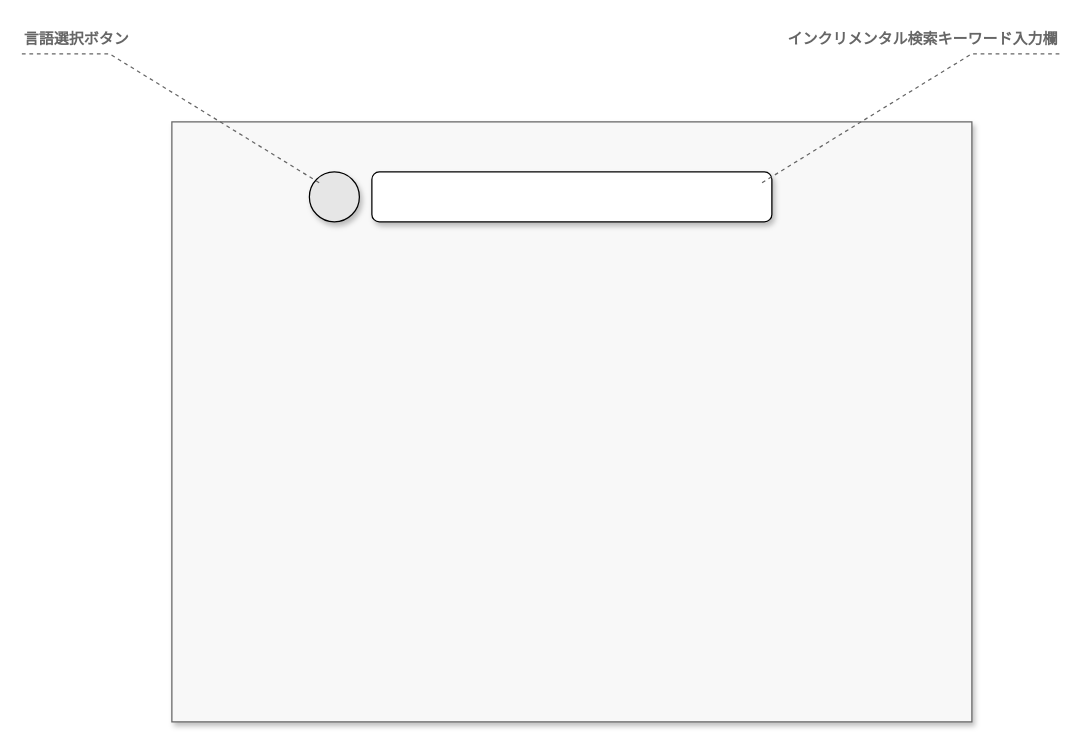
Some shapes in this 1081 by 753 pixel diagram are drawn without their labels. The shapes that lost their labels are listed below. From the top down, each one's centre as x and y in pixels, then its label:
point (335, 198): JA
point (572, 198): Search Keyword
